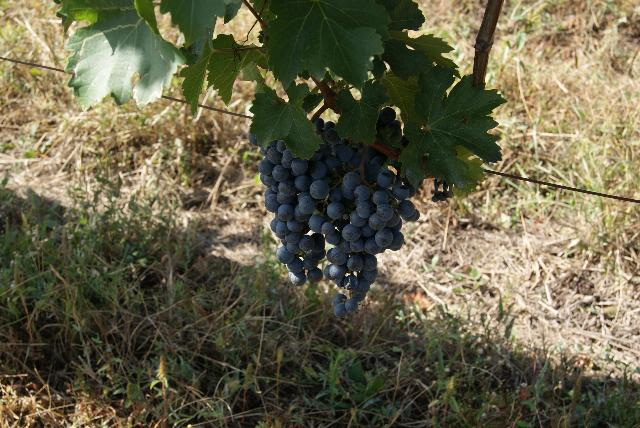grapes: (316, 182, 420, 305), (258, 141, 340, 285)
